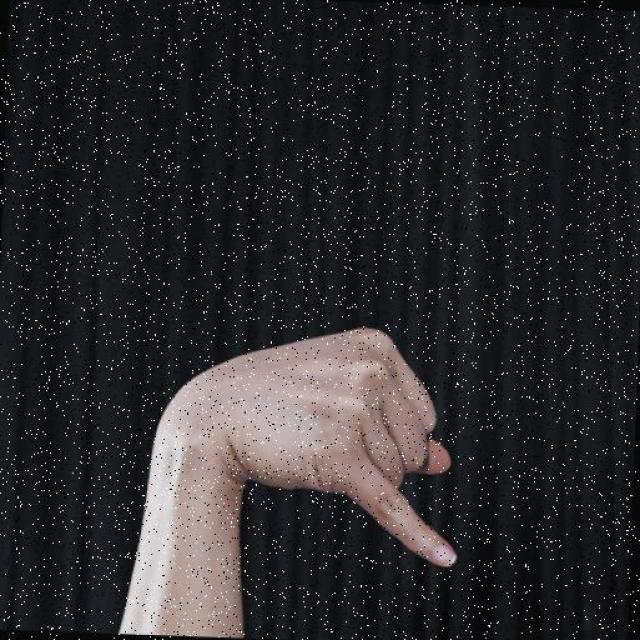J: (128, 314, 473, 572)
